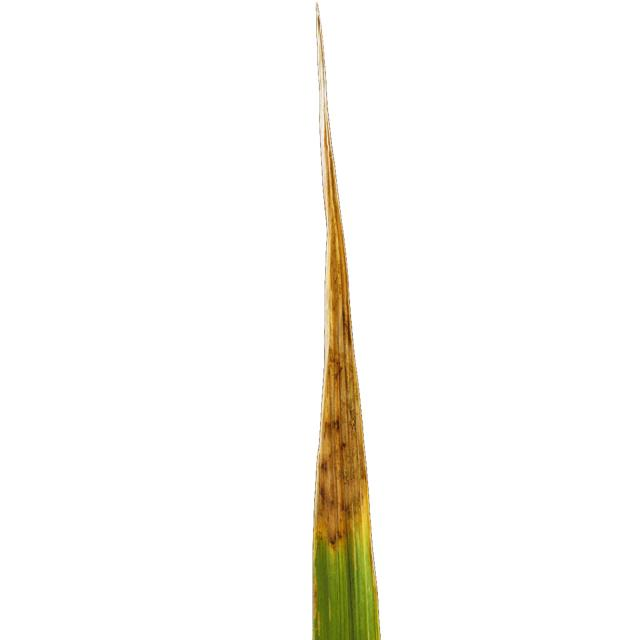Leaf scald: (235, 0, 542, 640)
